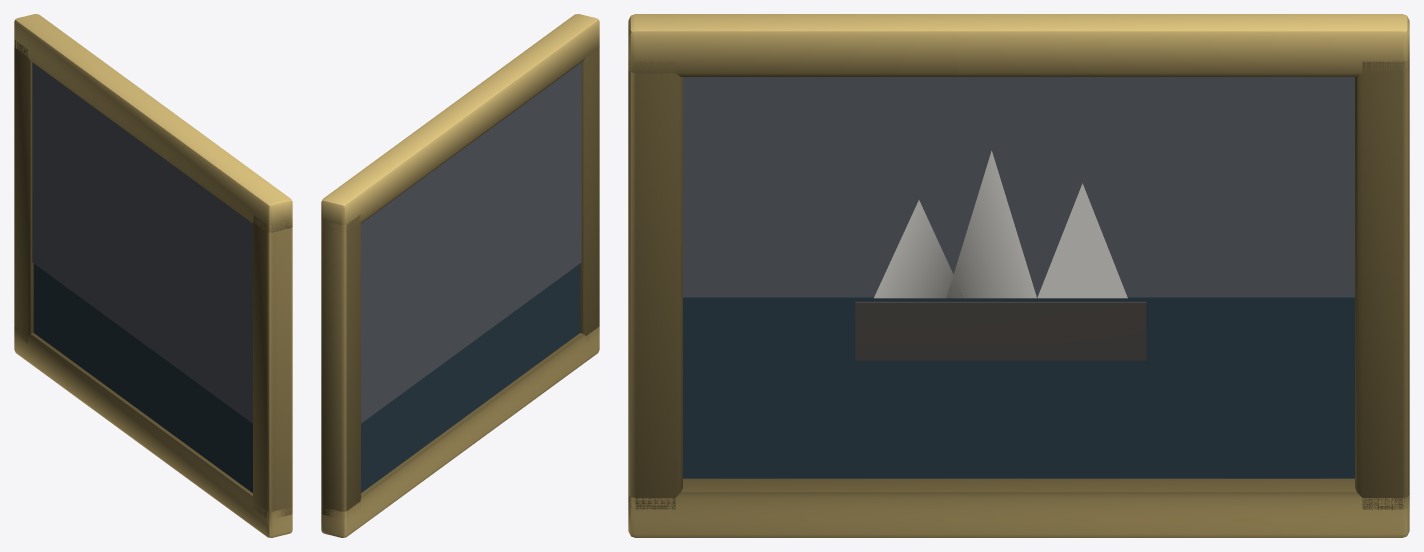
The model's file is pic_ship.glb.
The picture shows the model from 3 angles, left to right: view 1: azimuth 30°, elevation 25°; view 2: azimuth 150°, elevation 25°; view 3: azimuth 270°, elevation 25°; orthographic projection. The views are drawn at different scales.
Parts seen in each view (by area): view 1: boat_paint_sky, boat_gilt, boat_paint_sea; view 2: boat_paint_sky, boat_gilt, boat_paint_sea; view 3: boat_gilt, boat_paint_sky, boat_paint_sea, boat_paint_dark, boat_paint_white.
Boxes of the visible parts, box(x1,y1,x2,y2) form: boat_paint_sky: box(32, 62, 252, 423); boat_gilt: box(14, 14, 292, 537); boat_paint_sea: box(33, 263, 252, 492); boat_paint_sky: box(361, 62, 581, 423); boat_gilt: box(321, 14, 599, 537); boat_paint_sea: box(361, 263, 580, 492); boat_gilt: box(628, 14, 1409, 537); boat_paint_sky: box(683, 77, 1354, 296); boat_paint_sea: box(683, 297, 1354, 478); boat_paint_dark: box(855, 301, 1146, 360); boat_paint_white: box(874, 150, 1127, 298).
Bounding box in the file's own units: 0.05 × 0.62 × 0.86.
